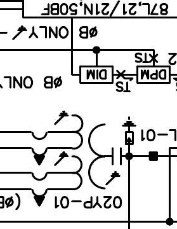115_cvt_1p: (30, 110, 122, 207)
115_la: (122, 116, 137, 145)
DIM: (79, 65, 114, 84)
DPM: (136, 65, 171, 84)
